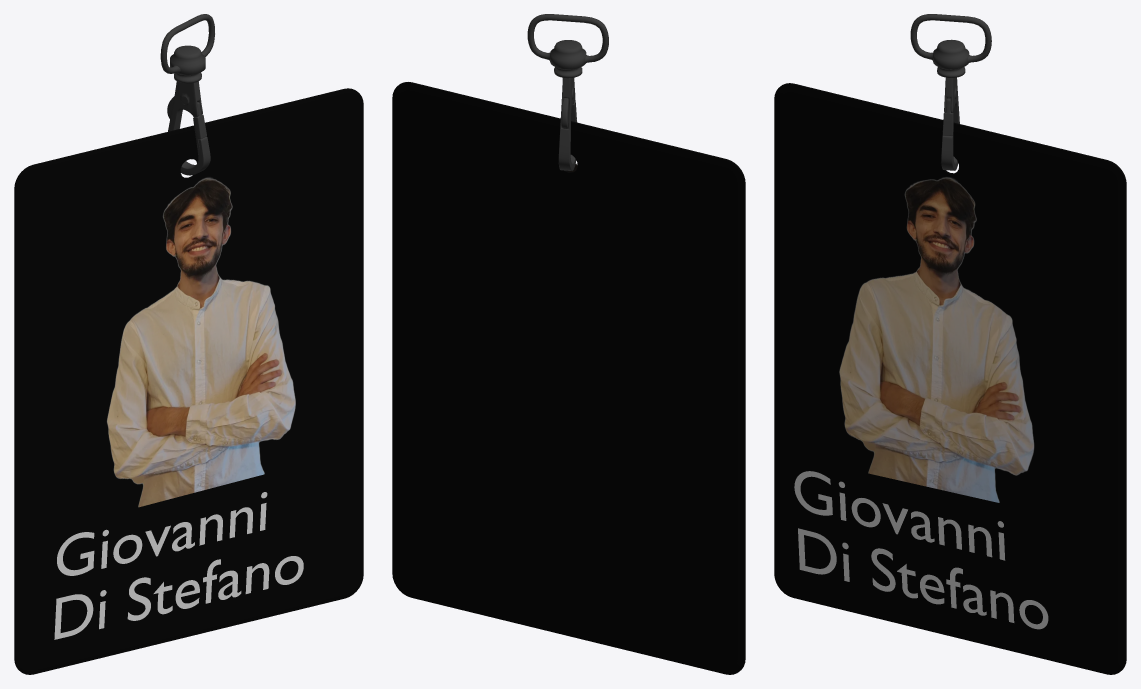
Rendered from gianniBadge2-transformed.glb.
3 renders of one model, left to right at view 1: azimuth 30°, elevation 25°; view 2: azimuth 150°, elevation 25°; view 3: azimuth 330°, elevation 25°, orthographic.
Visible parts, largest first — view 1: card, IMG_20240706_195900433_MF_PORTRAITTagliataNoSfondo, Text, clip; view 2: card, clip; view 3: card, IMG_20240706_195900433_MF_PORTRAITTagliataNoSfondo, Text, clip.
Part boxes in pixels (bbox=[...]): card: bbox=[14, 88, 363, 674]; IMG_20240706_195900433_MF_PORTRAITTagliataNoSfondo: bbox=[107, 177, 295, 507]; Text: bbox=[54, 492, 303, 639]; clip: bbox=[160, 14, 214, 175]; card: bbox=[392, 82, 745, 674]; clip: bbox=[527, 14, 608, 170]; card: bbox=[774, 83, 1126, 674]; IMG_20240706_195900433_MF_PORTRAITTagliataNoSfondo: bbox=[839, 177, 1034, 502]; Text: bbox=[794, 471, 1048, 629]; clip: bbox=[910, 14, 991, 170].
Size of the model in its own units: 0.7164 by 1.21 by 0.1047.
Materials: 4 (1 with a texture image).
